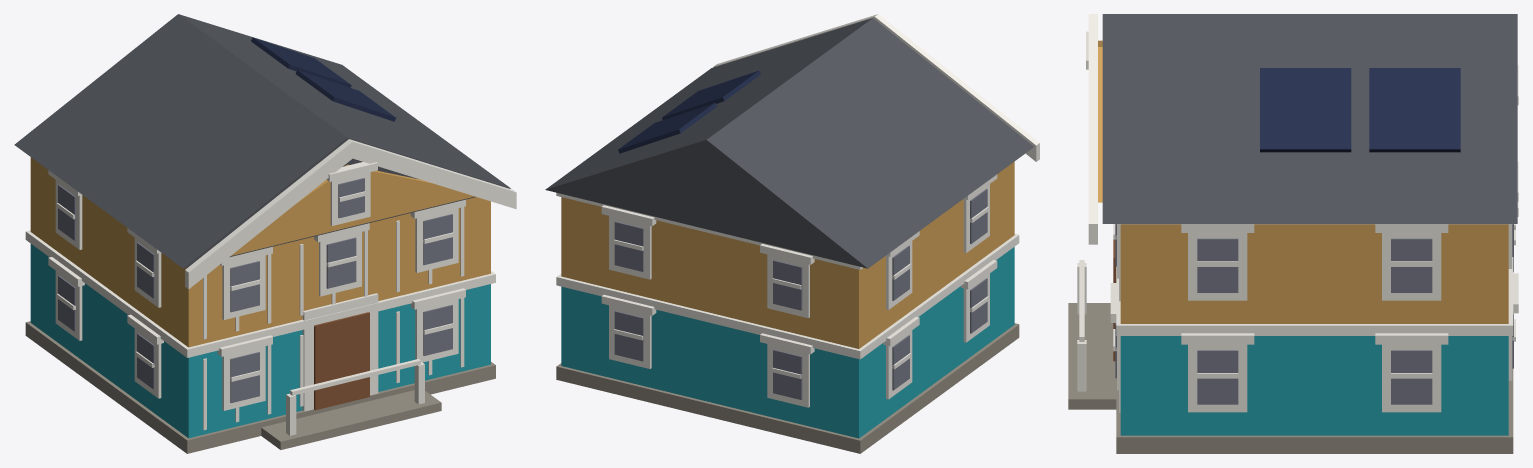
Rendered from house-1x1-2f-valparaiso-a-solar.glb.
3 renders of one model, left to right at view 1: azimuth 30°, elevation 25°; view 2: azimuth 150°, elevation 25°; view 3: azimuth 270°, elevation 25°, orthographic. The views are drawn at different scales.
Visible parts, largest first — view 1: house-1x1-2f-valparaiso-a-solar; view 2: house-1x1-2f-valparaiso-a-solar; view 3: house-1x1-2f-valparaiso-a-solar.
Boxes of the visible parts, box(x1,y1,x2,y2) form: house-1x1-2f-valparaiso-a-solar: box(14, 14, 516, 453); house-1x1-2f-valparaiso-a-solar: box(545, 14, 1039, 453); house-1x1-2f-valparaiso-a-solar: box(1068, 14, 1518, 453).
Bounding box in the file's own units: 1.02 × 0.84 × 0.987.
1 material, 1 textured.
